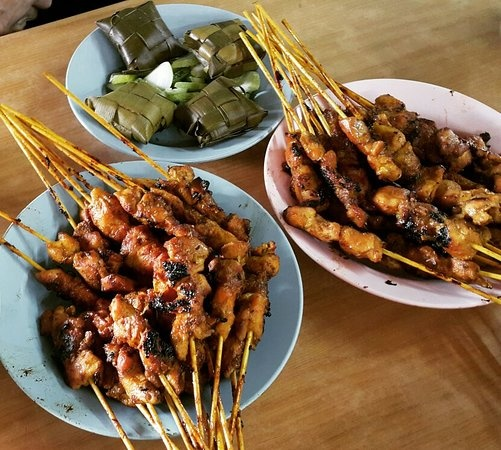sate: (30, 164, 282, 411), (282, 90, 500, 288)
